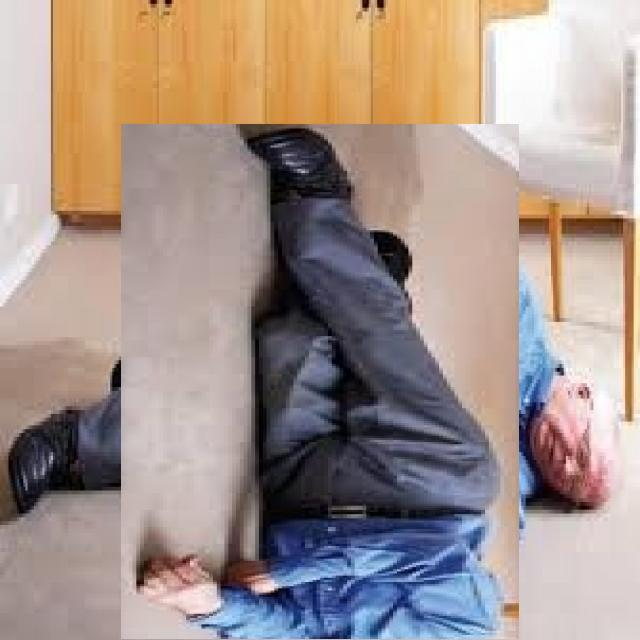Fall: (152, 137, 469, 640)
